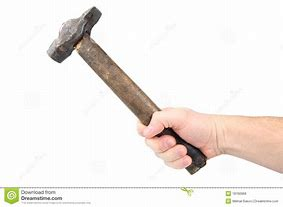hammer: (46, 5, 208, 175)
